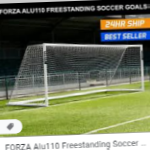goals: (5, 41, 146, 107)
